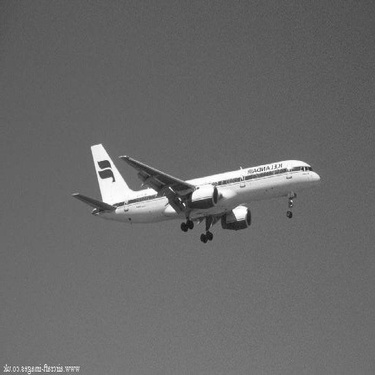airplane: (70, 138, 324, 248)
